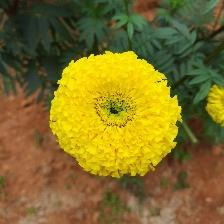marigold: (46, 51, 190, 180)
